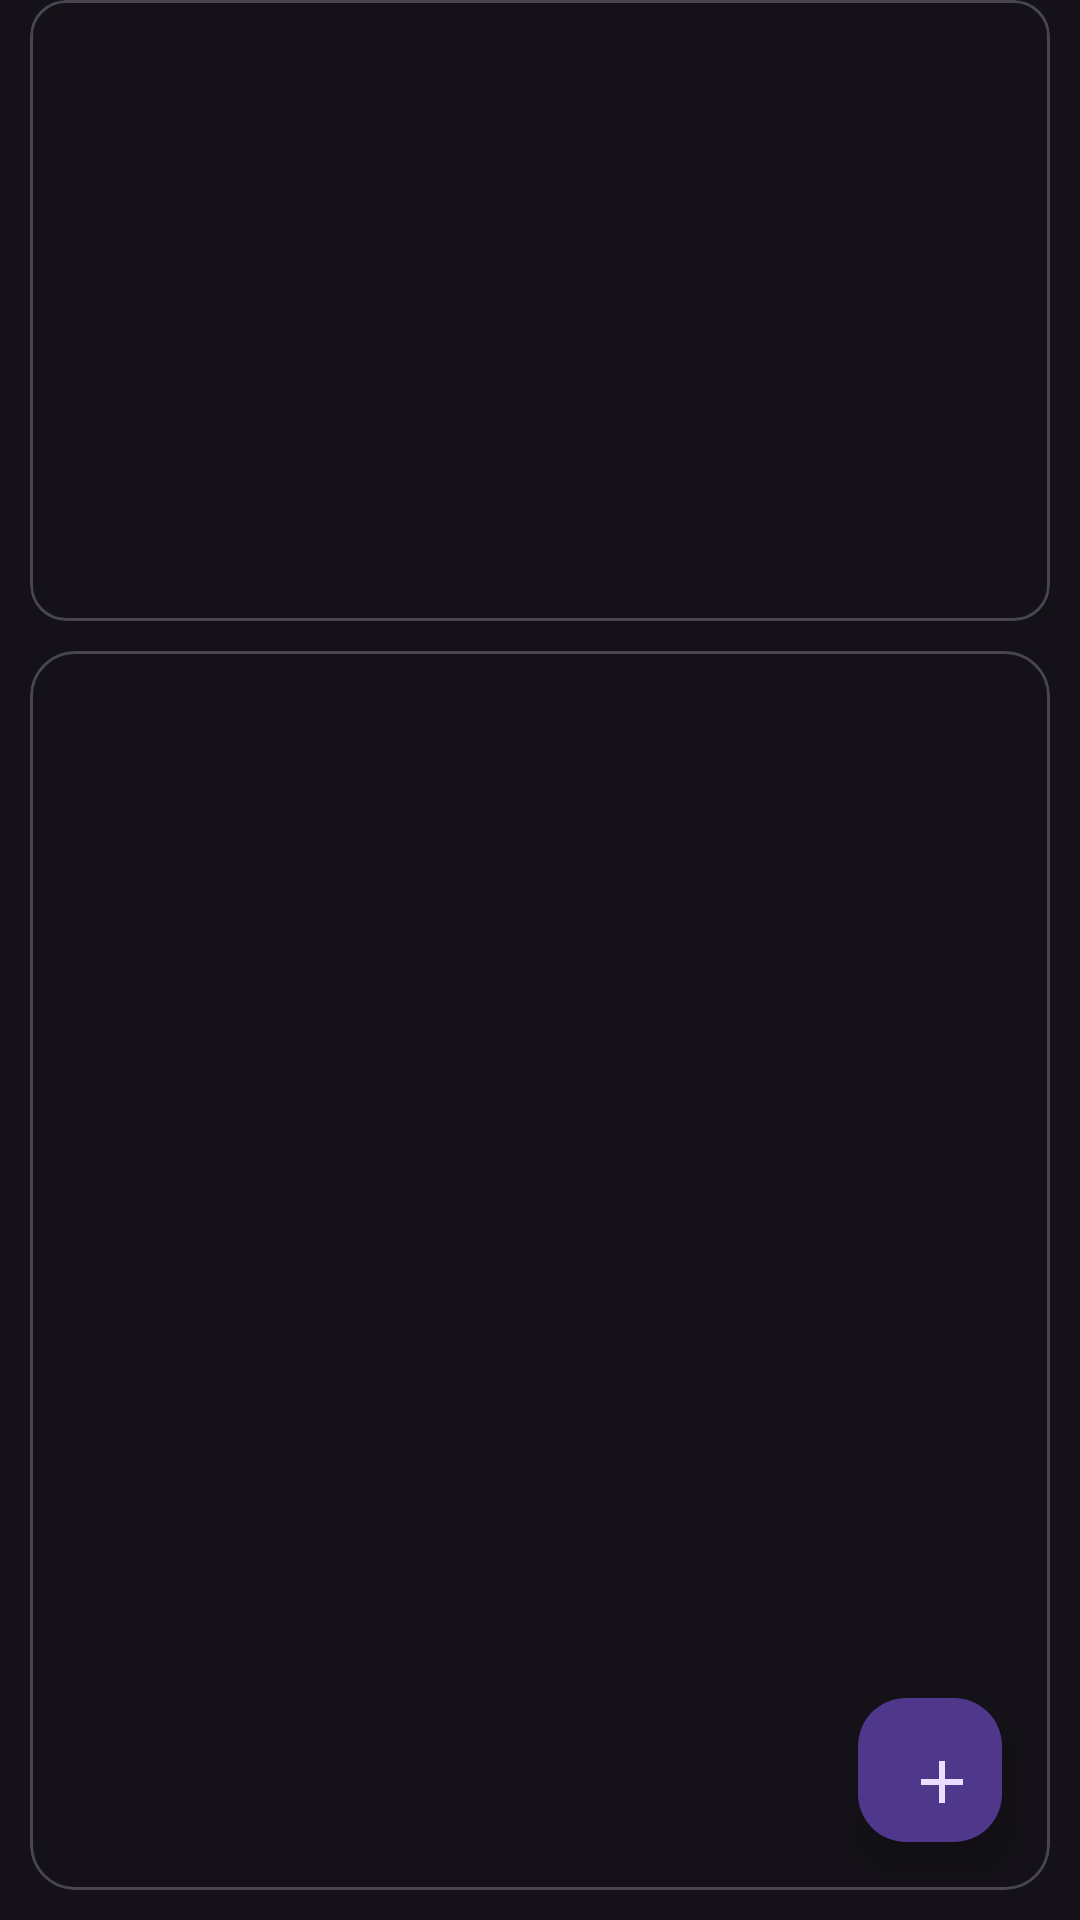

Where to tap for icons on this 1080w x 1920h app screen, as (x=x, y=y):
Add: (x=930, y=1770)
